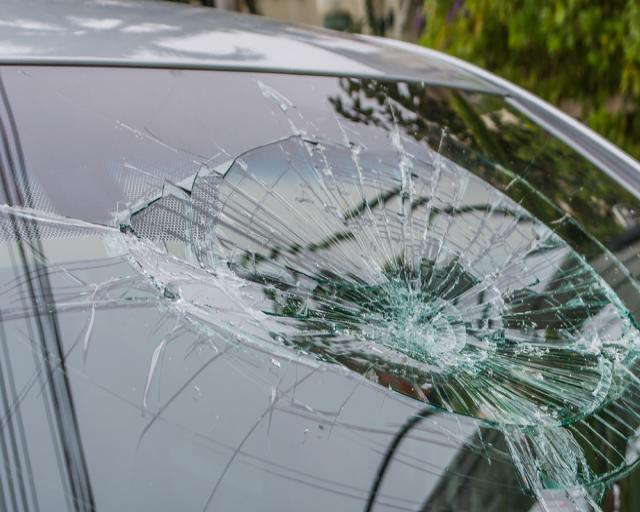glass shatter: (0, 62, 640, 512)
